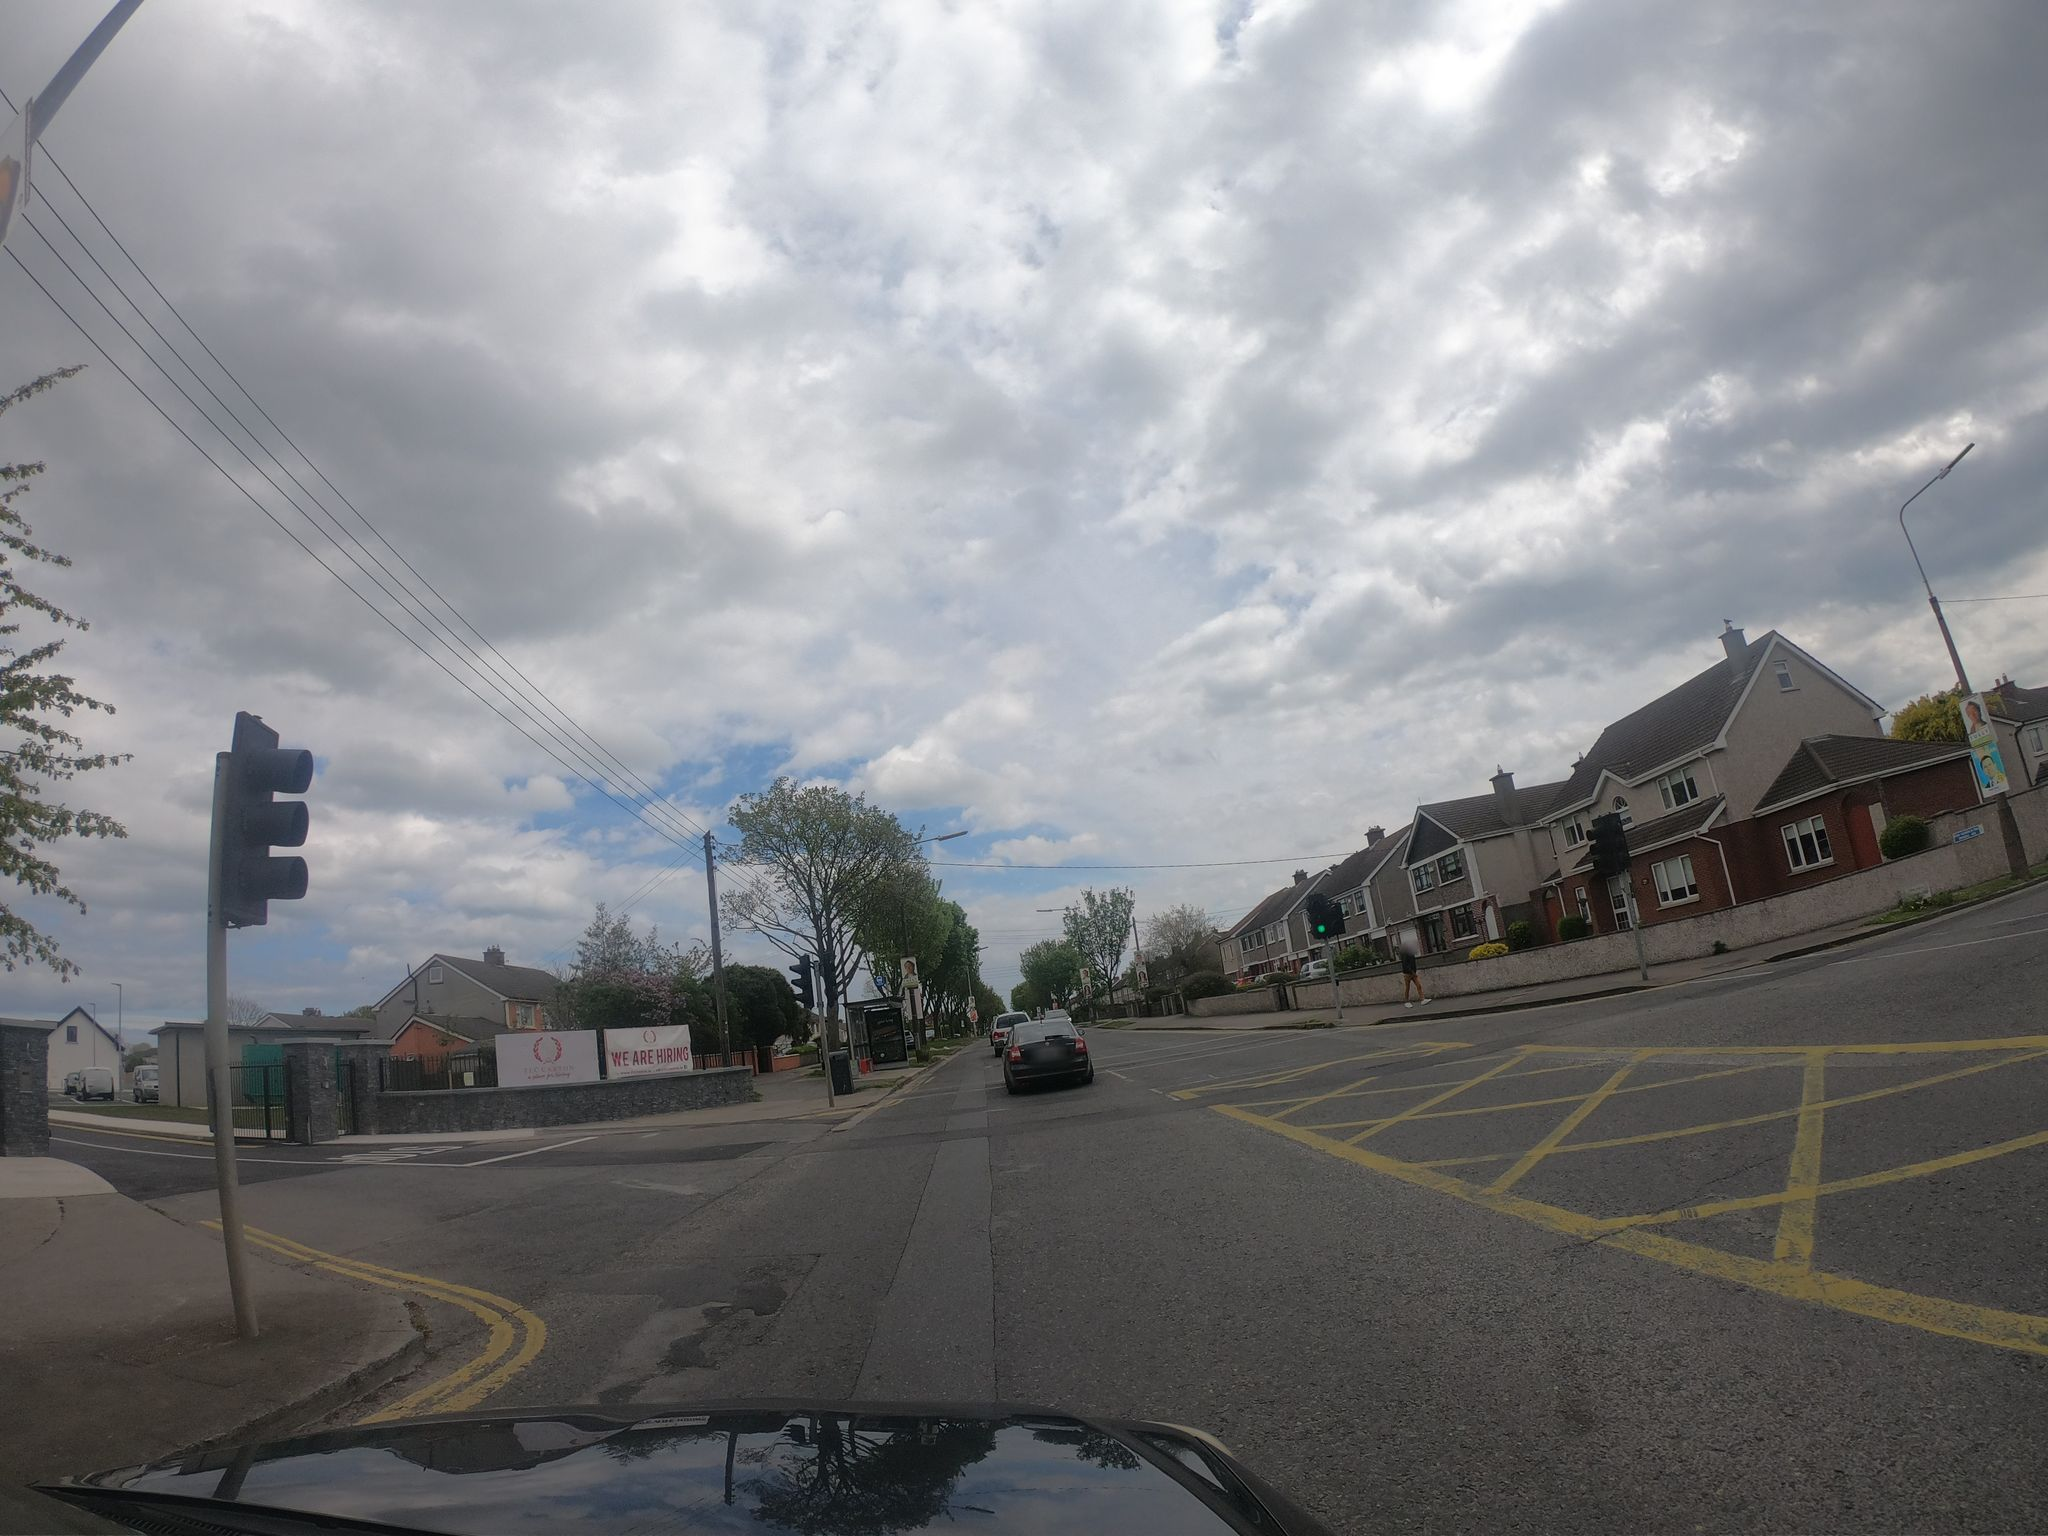vinyl banner: (601, 1000, 710, 1087)
